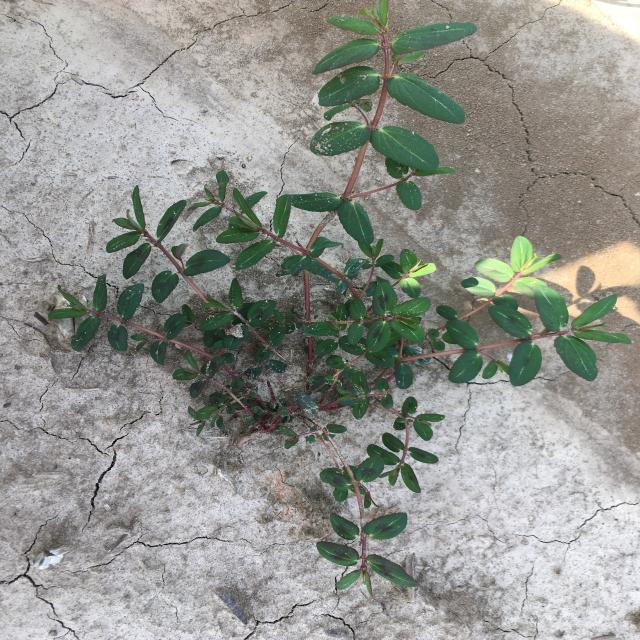SpottedSpurge: (48, 1, 633, 598)
